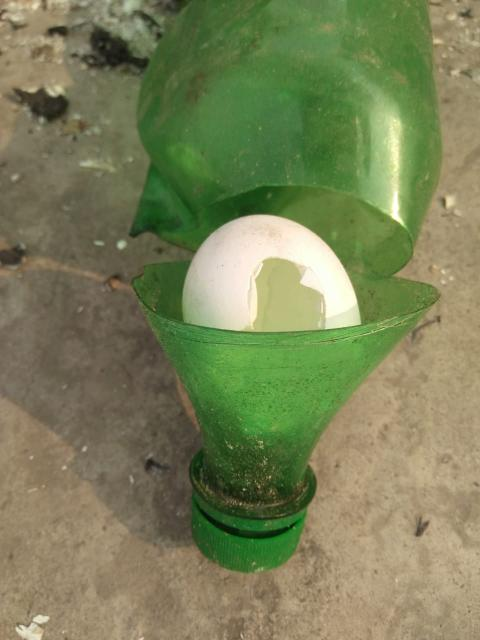Roto: (180, 213, 362, 338)
